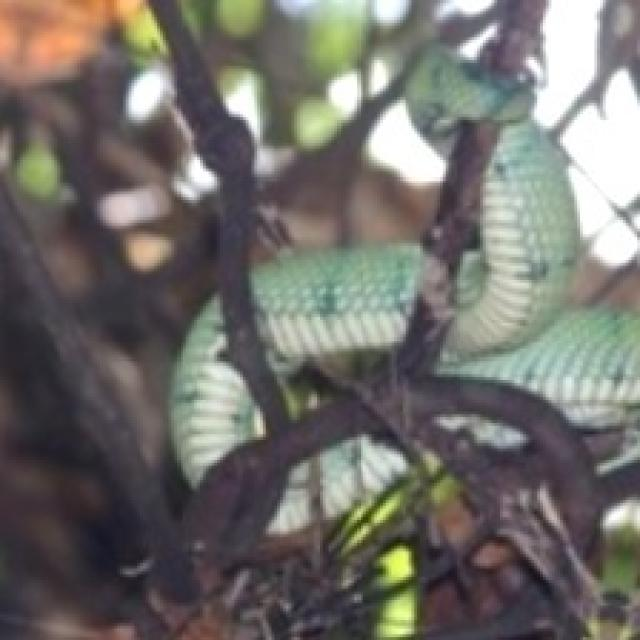north ph temple pitviper: (441, 120, 640, 439), (254, 248, 420, 371), (172, 304, 260, 481), (272, 438, 402, 529), (412, 64, 520, 119), (450, 422, 524, 448)
